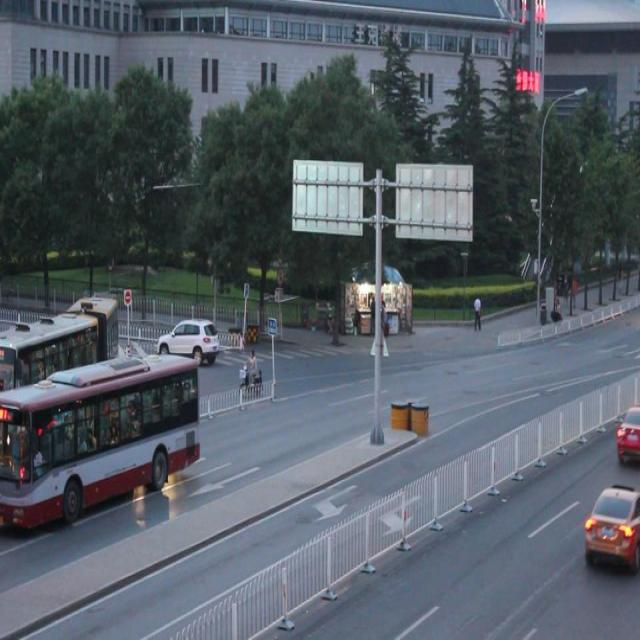car: (582, 482, 640, 559), (162, 309, 223, 359), (121, 332, 167, 387), (612, 403, 640, 460)
van: (1, 353, 197, 531), (1, 294, 120, 406)
